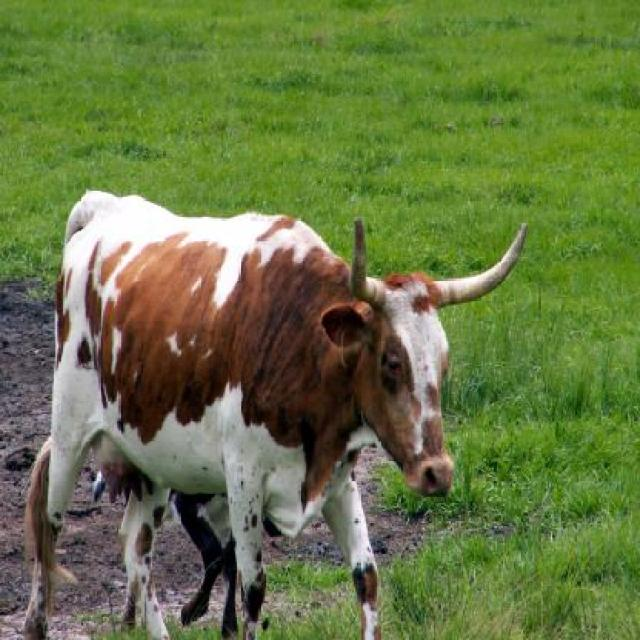Cow: (14, 192, 532, 638)
